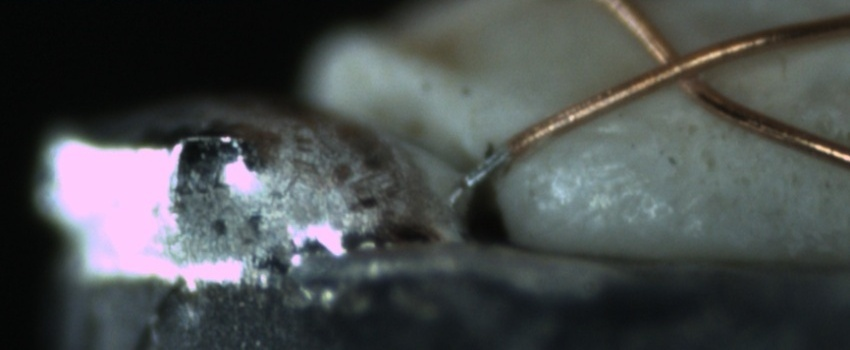CL: (629, 33, 723, 105)
DL: (558, 104, 648, 158)
TS: (465, 144, 509, 186)
